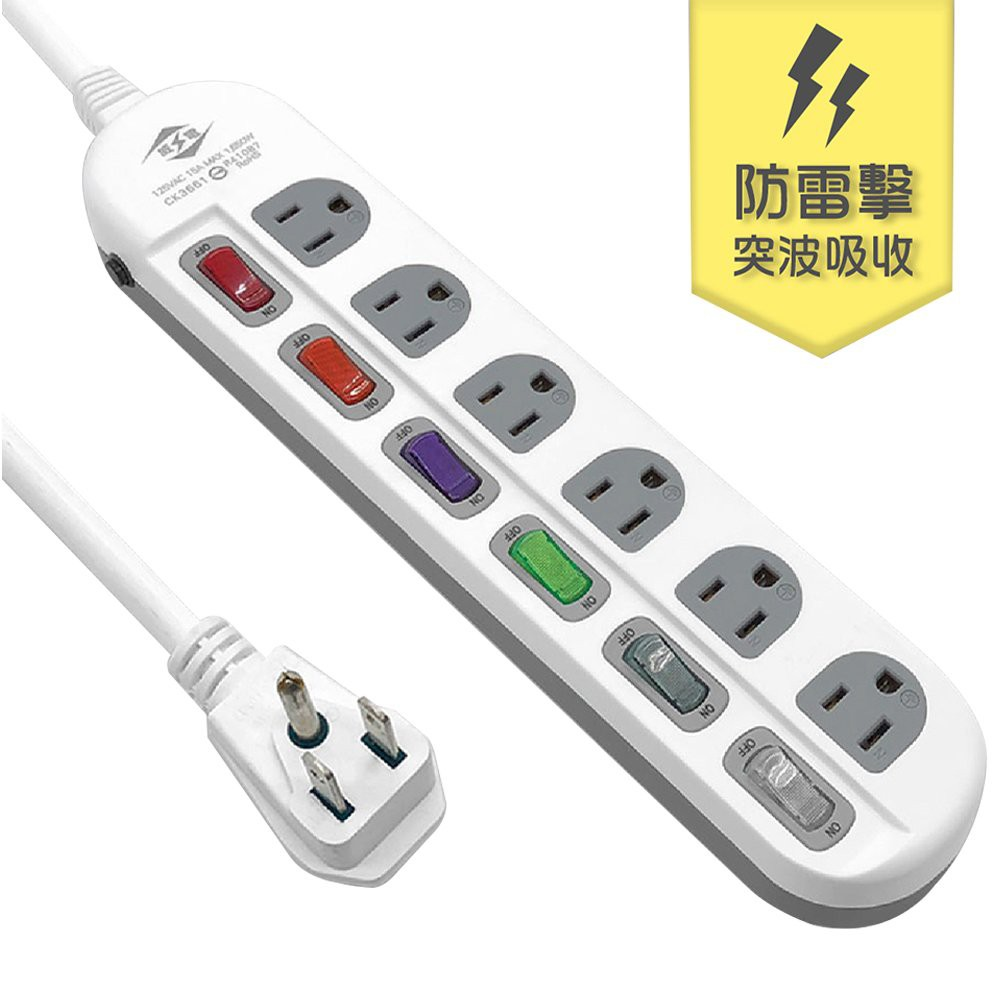socket: (64, 58, 988, 919)
